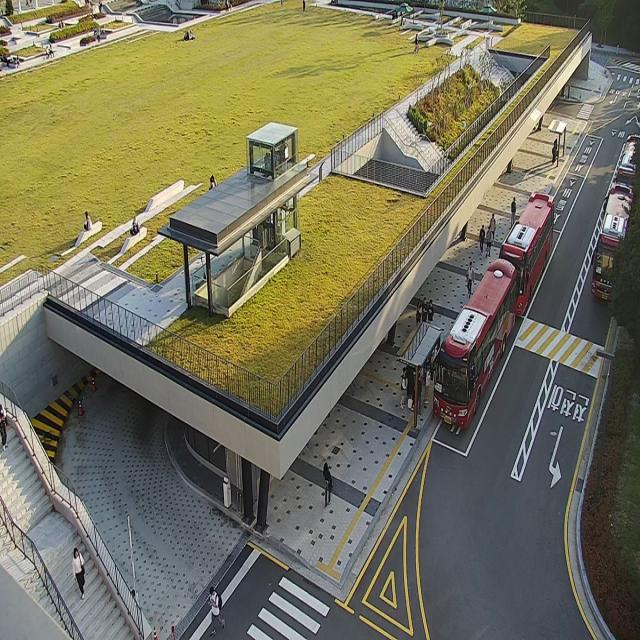queue: (414, 324, 440, 426)
